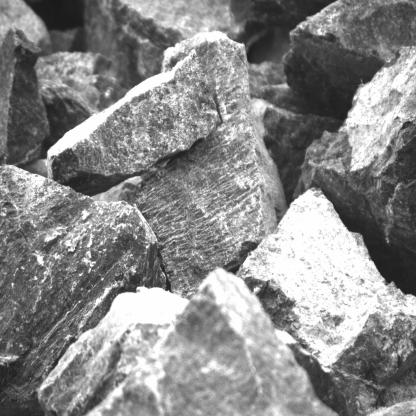stone: (234, 186, 416, 416), (0, 164, 166, 416), (134, 31, 288, 299), (86, 268, 341, 416), (47, 49, 221, 197), (300, 46, 416, 259), (283, 0, 416, 102), (0, 24, 49, 166)
